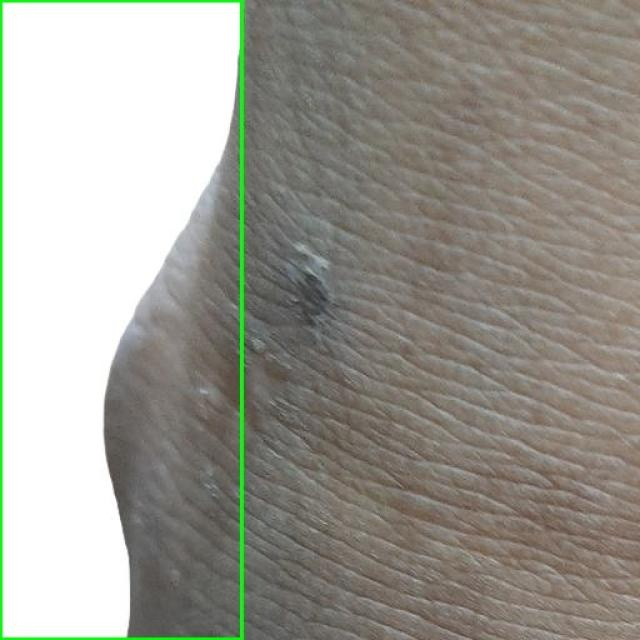Scabies: (0, 0, 241, 639)
